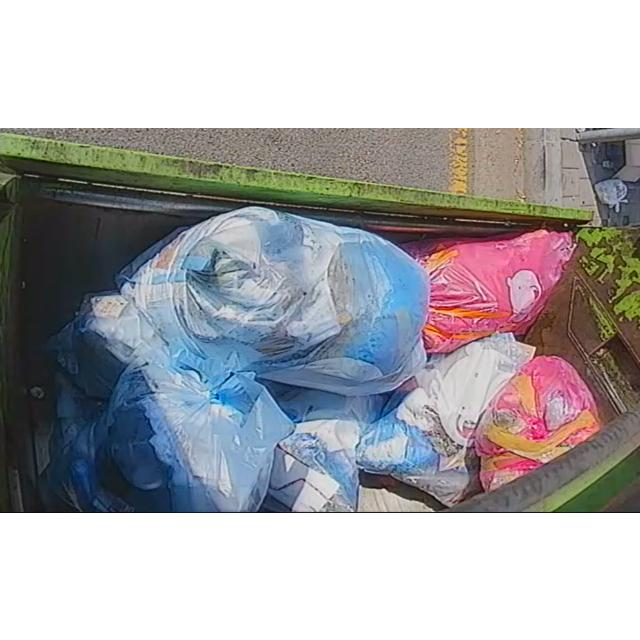other_trashbag: (121, 206, 429, 394), (46, 364, 294, 512), (356, 332, 535, 505), (401, 228, 576, 353), (475, 354, 600, 491), (261, 378, 389, 511), (51, 291, 152, 416)
